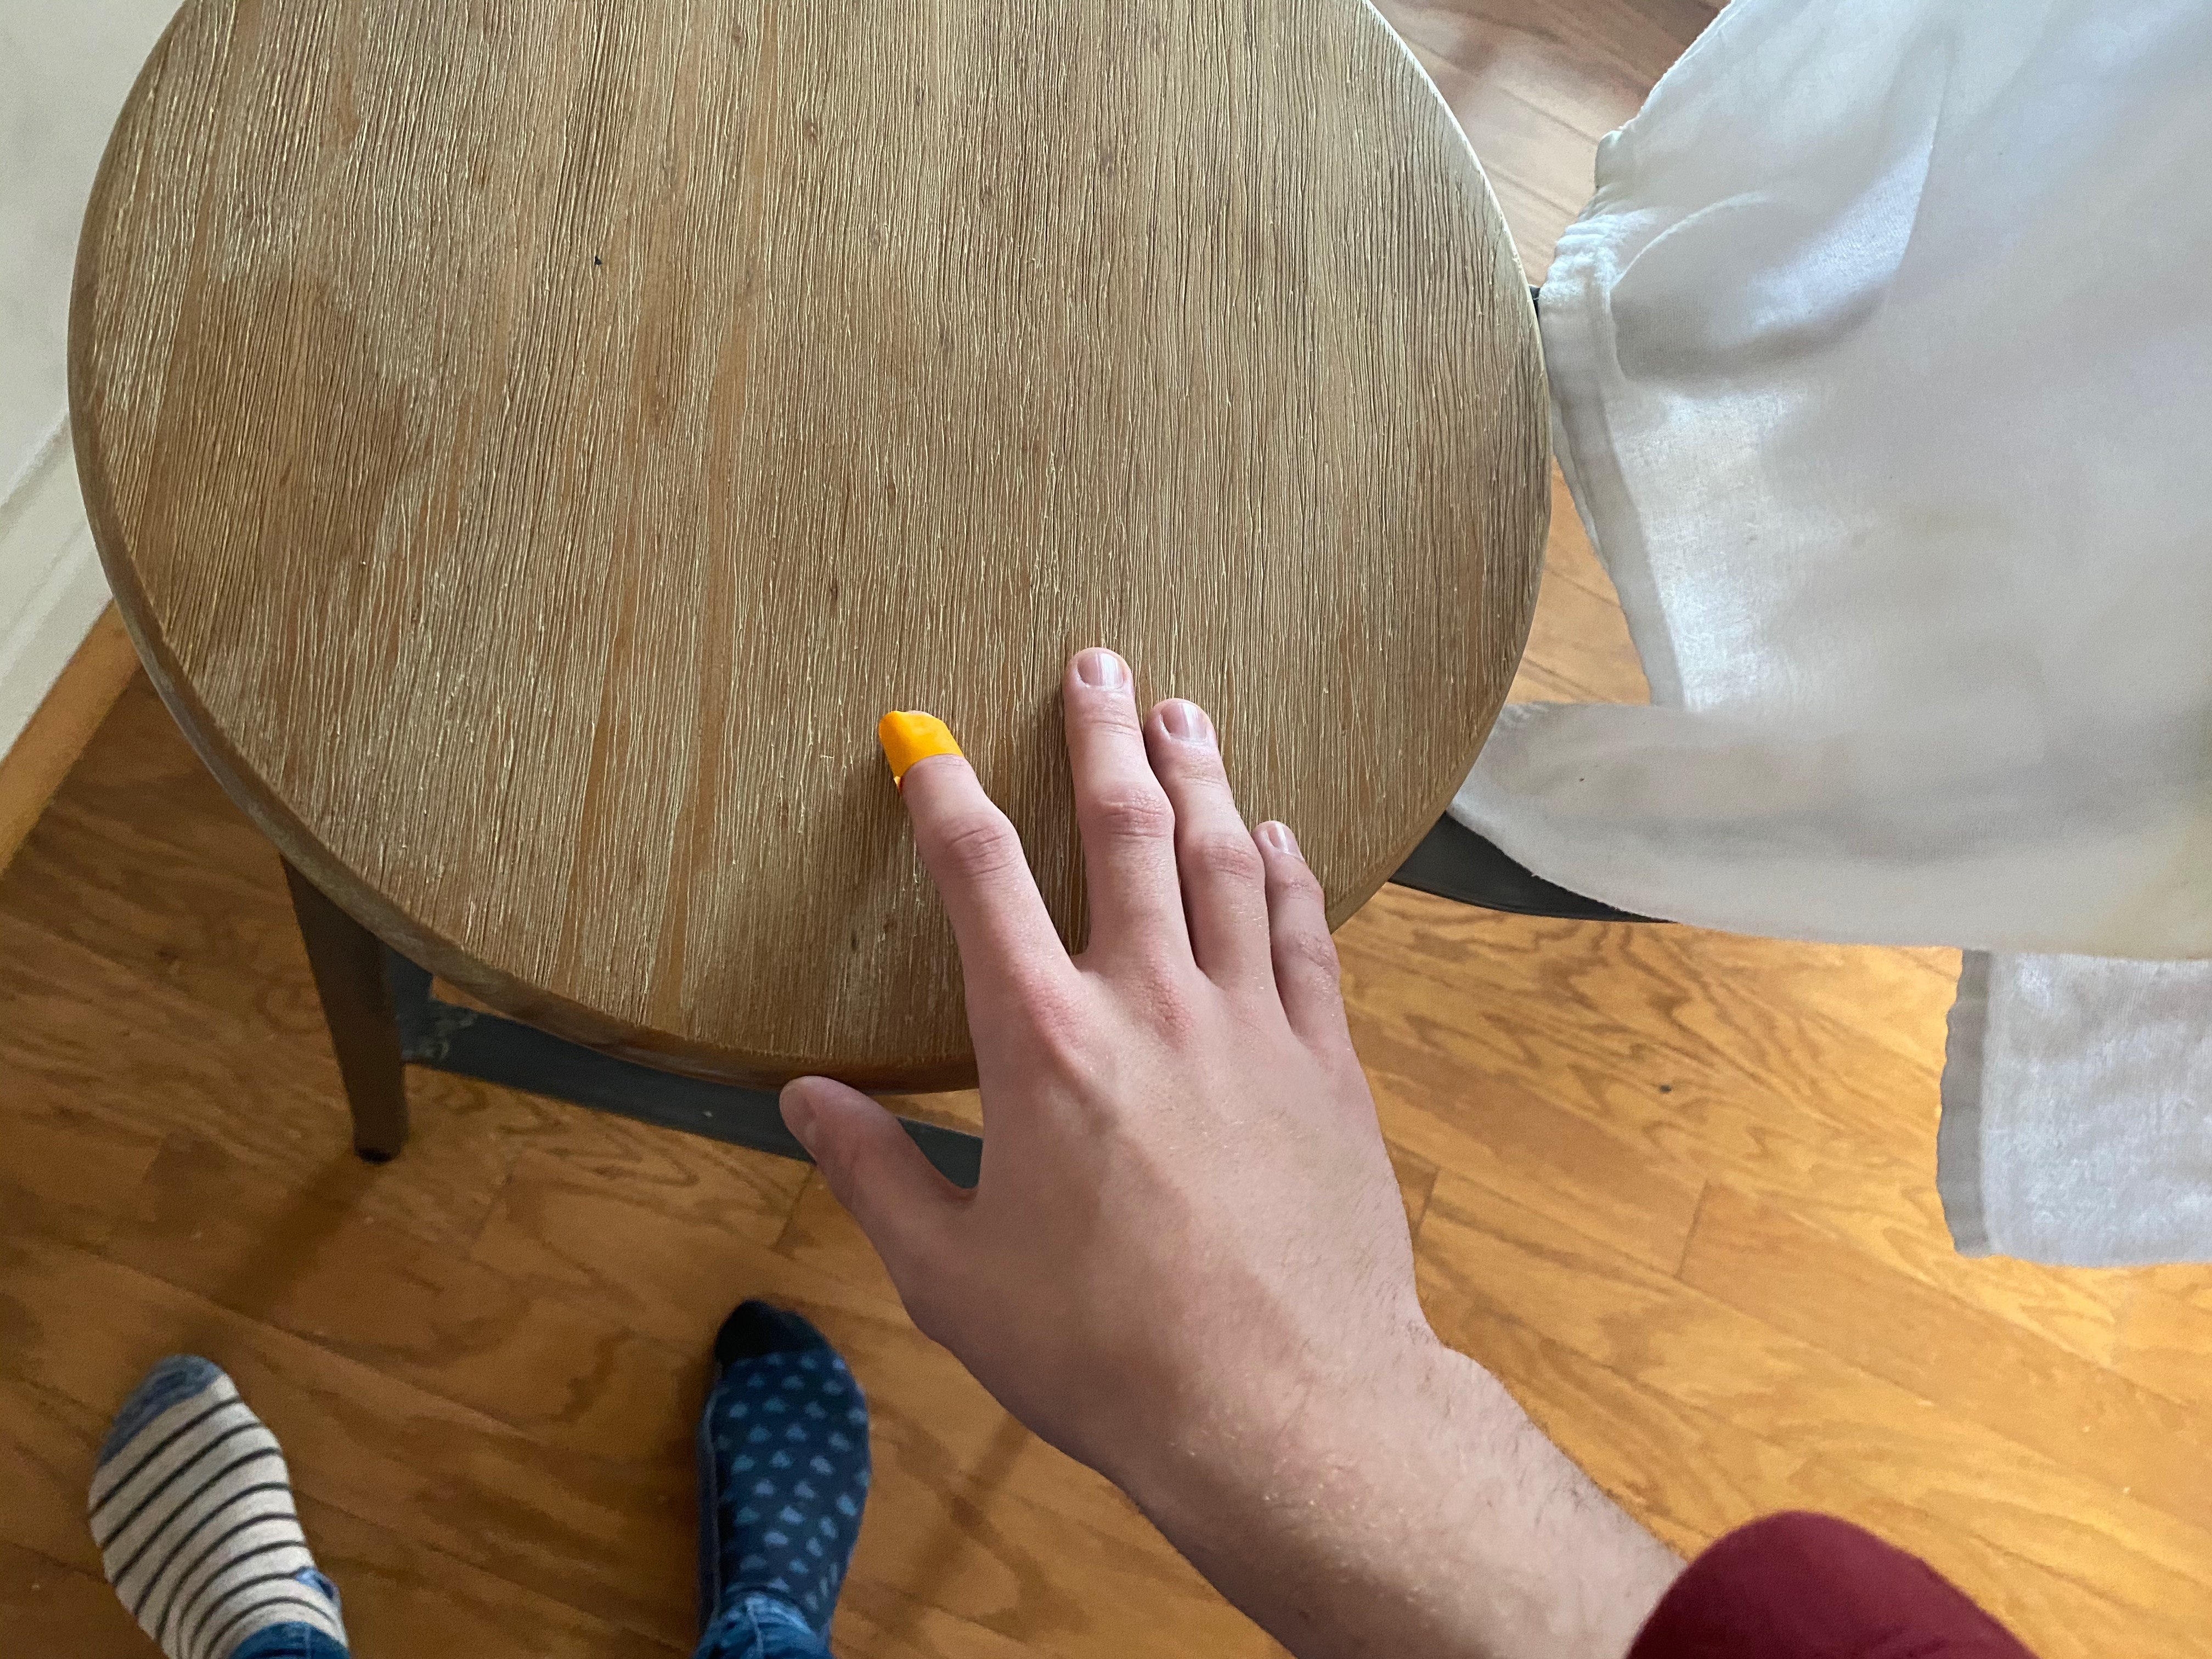fingertip: (862, 697, 991, 814)
